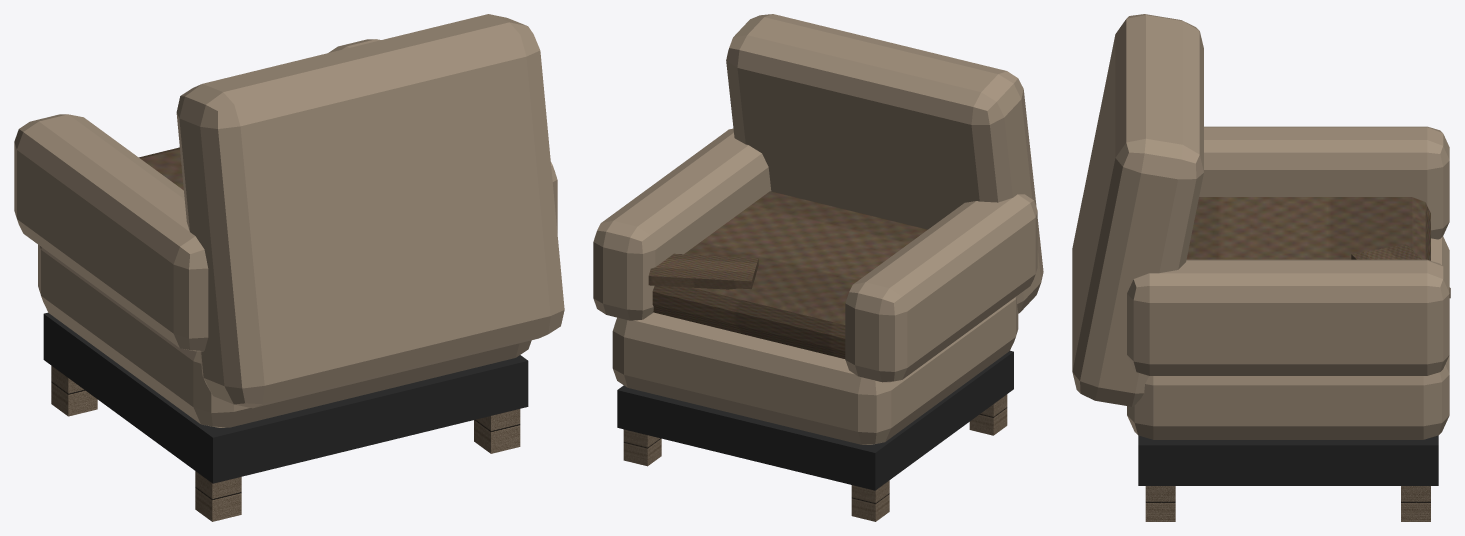
File: WK_FUR_Recliner.glb
The picture shows the model from 3 angles, left to right: view 1: azimuth 30°, elevation 25°; view 2: azimuth 150°, elevation 25°; view 3: azimuth 270°, elevation 25°; orthographic projection. The views are drawn at different scales.
Visible parts, largest first — view 1: WK_FUR_Recliner_P02, WK_FUR_Recliner_P03, WK_FUR_Recliner_P06, WK_FUR_Recliner_P01, WK_FUR_Recliner_P07, WK_FUR_Recliner_P09, WK_FUR_Recliner_P08, WK_FUR_Recliner_P05; view 2: WK_FUR_Recliner_P02, WK_FUR_Recliner_P01, WK_FUR_Recliner_P05, WK_FUR_Recliner_P03, WK_FUR_Recliner_P06, WK_FUR_Recliner_P04, WK_FUR_Recliner_P11, WK_FUR_Recliner_P08, WK_FUR_Recliner_P10, WK_FUR_Recliner_P07; view 3: WK_FUR_Recliner_P04, WK_FUR_Recliner_P02, WK_FUR_Recliner_P01, WK_FUR_Recliner_P03, WK_FUR_Recliner_P05, WK_FUR_Recliner_P06, WK_FUR_Recliner_P09, WK_FUR_Recliner_P10, WK_FUR_Recliner_P11.
Part boxes in pixels (x1,y1,x2,y2): WK_FUR_Recliner_P02: (176,14,564,408); WK_FUR_Recliner_P03: (14,114,208,351); WK_FUR_Recliner_P06: (43,312,528,483); WK_FUR_Recliner_P01: (38,244,531,427); WK_FUR_Recliner_P07: (195,471,241,521); WK_FUR_Recliner_P09: (474,409,520,453); WK_FUR_Recliner_P08: (51,366,97,416); WK_FUR_Recliner_P05: (139,147,183,190); WK_FUR_Recliner_P02: (726,14,1043,313); WK_FUR_Recliner_P01: (612,296,1018,444); WK_FUR_Recliner_P05: (652,191,927,358); WK_FUR_Recliner_P03: (845,194,1037,382); WK_FUR_Recliner_P06: (617,350,1013,490); WK_FUR_Recliner_P04: (593,128,771,320); WK_FUR_Recliner_P11: (648,253,758,289); WK_FUR_Recliner_P08: (851,480,889,521); WK_FUR_Recliner_P10: (623,429,661,466); WK_FUR_Recliner_P07: (969,394,1007,435); WK_FUR_Recliner_P04: (1127,259,1449,375); WK_FUR_Recliner_P02: (1072,14,1203,406); WK_FUR_Recliner_P01: (1127,236,1449,439); WK_FUR_Recliner_P03: (1199,126,1449,239); WK_FUR_Recliner_P05: (1186,197,1430,260); WK_FUR_Recliner_P06: (1138,435,1438,485); WK_FUR_Recliner_P09: (1145,486,1175,521); WK_FUR_Recliner_P10: (1401,486,1430,521); WK_FUR_Recliner_P11: (1351,244,1450,298).
Size of the model in its own units: 1.04 by 1.11 by 1.01.
4 materials, 2 textured.
